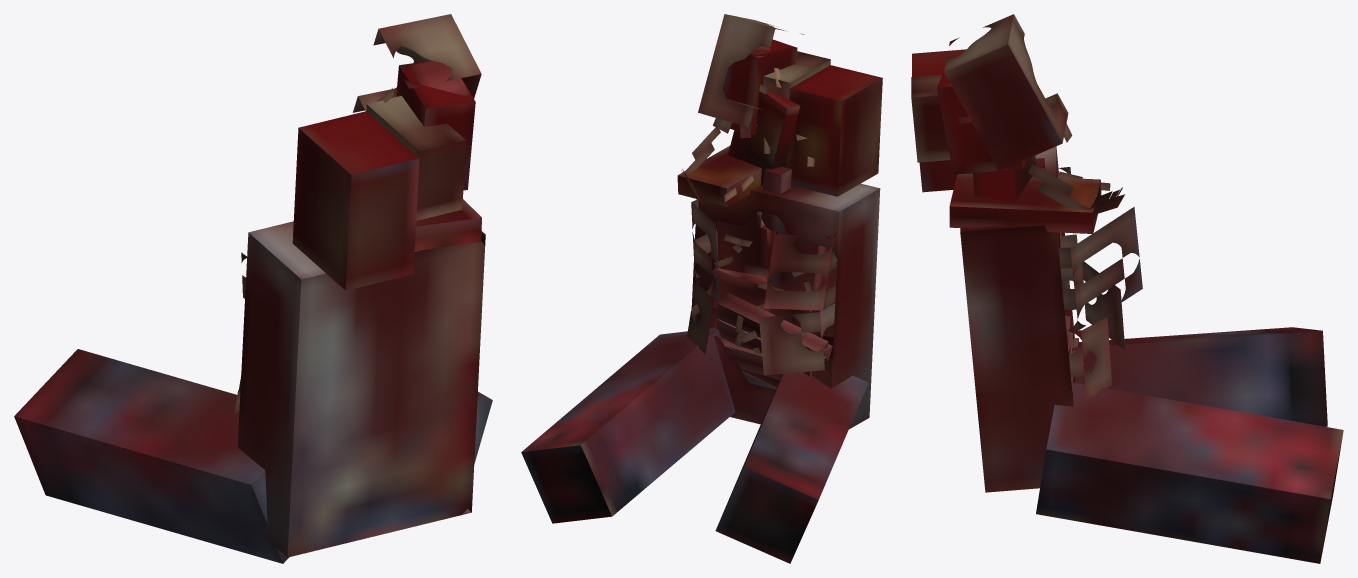
Rendered from sitting_1.obj.
The picture shows the model from 3 angles, left to right: view 1: azimuth 30°, elevation 25°; view 2: azimuth 150°, elevation 25°; view 3: azimuth 270°, elevation 25°; orthographic projection. The views are drawn at different scales.
Visible parts, largest first — view 1: Body; view 2: Body; view 3: Body.
Boxes of the visible parts, box(x1,y1,x2,y2) form: Body: box(14, 14, 492, 563); Body: box(521, 14, 882, 563); Body: box(911, 14, 1343, 563).
Size of the model in its own units: 0.9929 by 1.42 by 1.12.
